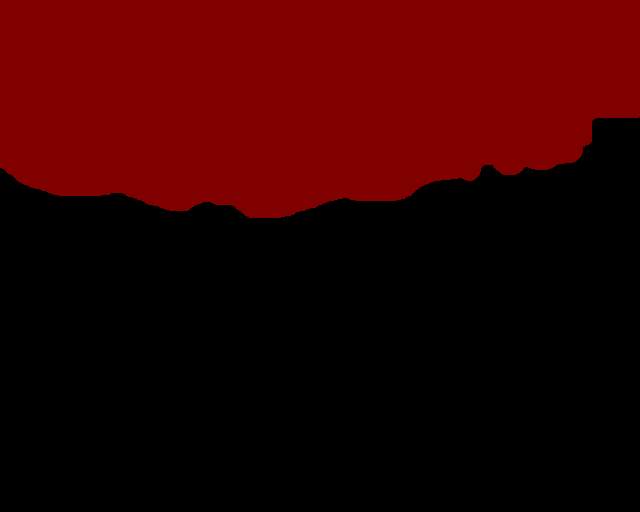Sky: (1, 1, 639, 218)
